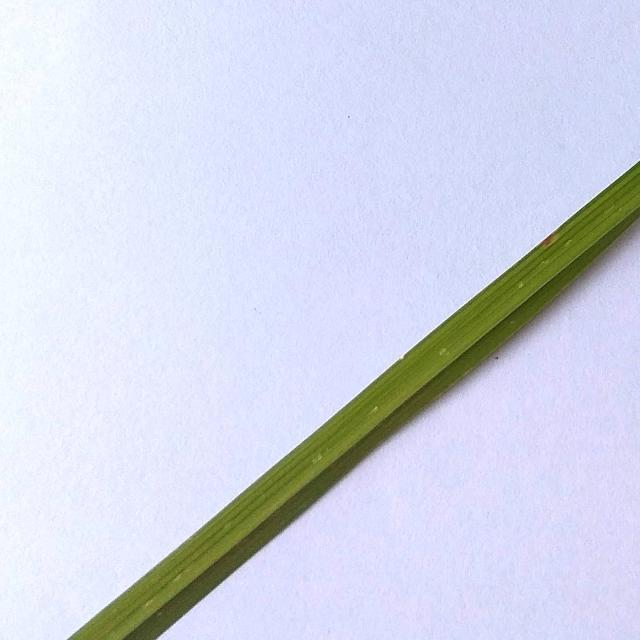Blast: (546, 226, 554, 245)
